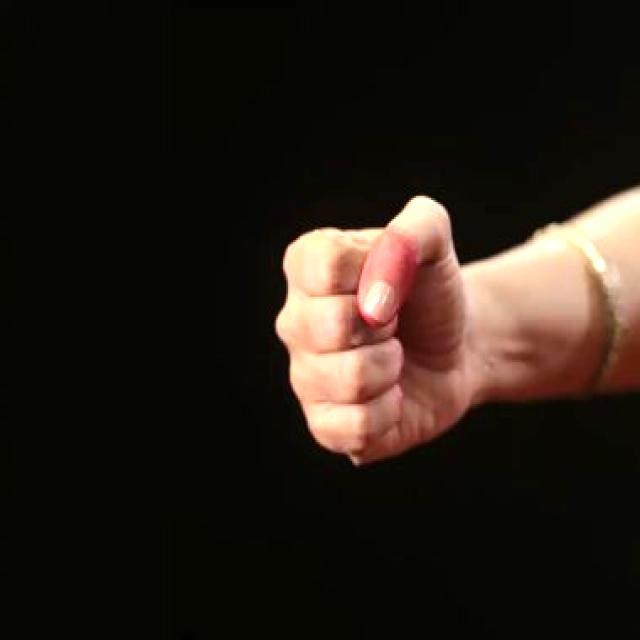Mushti: (253, 165, 481, 501)
